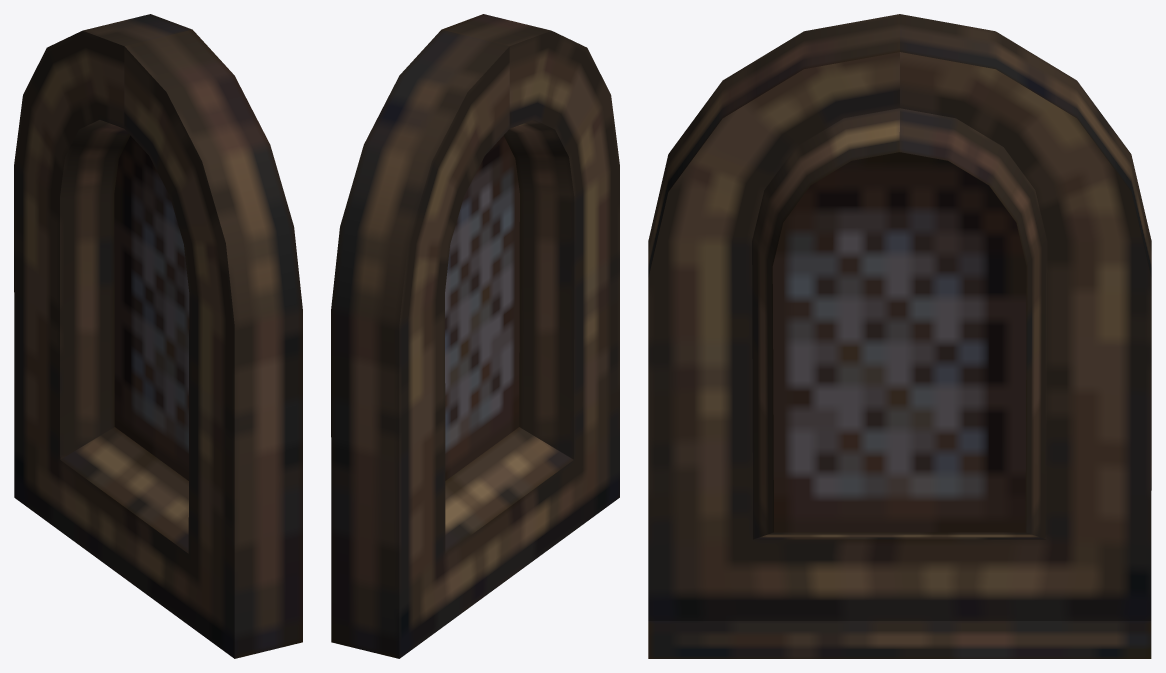
The model's file is EnvBdgMD_Sea_A_Indoor_Window_B.FBX.
The picture shows the model from 3 angles, left to right: view 1: azimuth 30°, elevation 25°; view 2: azimuth 150°, elevation 25°; view 3: azimuth 270°, elevation 25°; orthographic projection. The views are drawn at different scales.
Parts seen in each view (by area): view 1: EnvBdgMD_Sea_A_Indoor_Window_B; view 2: EnvBdgMD_Sea_A_Indoor_Window_B; view 3: EnvBdgMD_Sea_A_Indoor_Window_B.
Part boxes in pixels (x1=…): EnvBdgMD_Sea_A_Indoor_Window_B: x1=14, y1=14, x2=302, y2=658; EnvBdgMD_Sea_A_Indoor_Window_B: x1=331, y1=14, x2=619, y2=658; EnvBdgMD_Sea_A_Indoor_Window_B: x1=648, y1=14, x2=1151, y2=658.
Size of the model in its own units: 15 by 112 by 84.05.
1 material, 1 textured.
